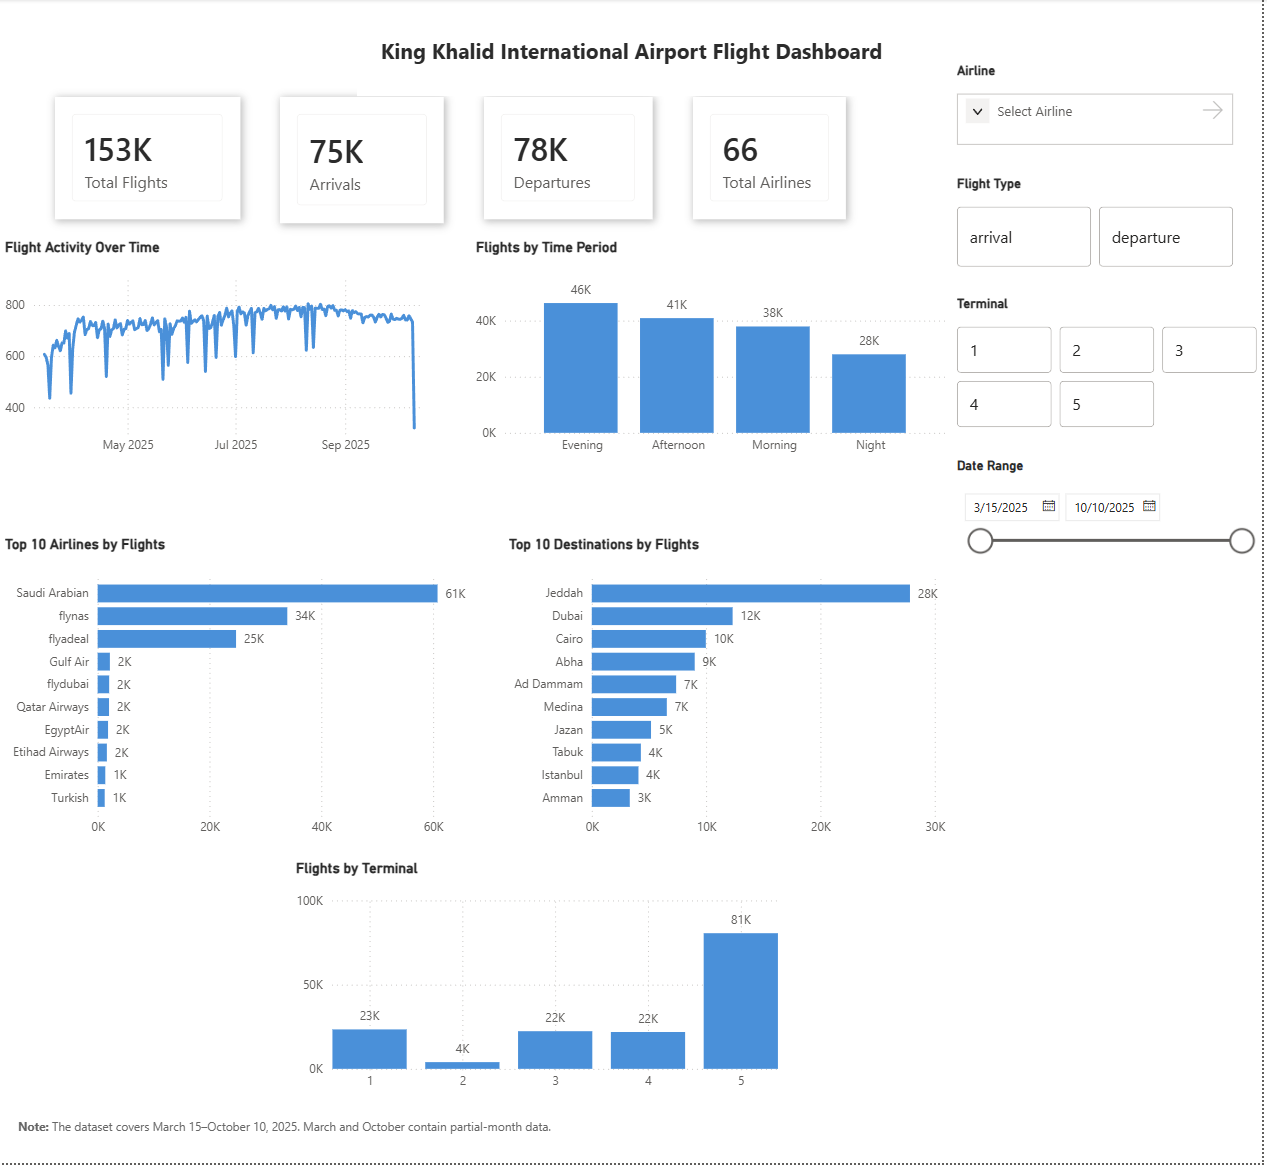

The dashboard page shown, as its layout file describes it:
{"tool":"powerbi","page":{"name":"Page 1","canvas":[1280,1180],"ordinal":0},"visuals":[{"type":"cardVisual","fields":{"Data":["saudi_aviation_clean.Total Flights"]},"box":[55.7,99,187.9,123.7],"z":0},{"type":"cardVisual","fields":{"Data":["saudi_aviation_clean.Arrivals"]},"box":[284.1,99,166.2,127.6],"z":1000},{"type":"cardVisual","fields":{"Data":["saudi_aviation_clean.Departures"]},"box":[490.9,99,170.9,123.7],"z":2000},{"type":"cardVisual","fields":{"Data":["saudi_aviation_clean.Total Airlines"]},"box":[702.3,99,155.4,123.7],"z":3000},{"type":"lineChart","title":"Flight Activity Over Time","fields":{"Category":["saudi_aviation_clean.date.Variation.Date Hierarchy.Year","saudi_aviation_clean.date.Variation.Date Hierarchy.Quarter","saudi_aviation_clean.date.Variation.Date Hierarchy.Month","saudi_aviation_clean.date.Variation.Date Hierarchy.Day"],"Y":["saudi_aviation_clean.Total Flights"]},"box":[0,243.2,450,226.5],"z":4000},{"type":"barChart","title":"Top 10 Airlines by Flights","fields":{"Category":["saudi_aviation_clean.airline.name"],"Y":["saudi_aviation_clean.Total Flights"]},"box":[0,544.2,510.8,313.2],"z":5000},{"type":"barChart","title":"Top 10 Destinations by Flights","fields":{"Category":["saudi_aviation_clean.destination_airport_name"],"Y":["saudi_aviation_clean.Total Flights"]},"box":[510.8,544.2,454.5,313.2],"z":6000},{"type":"columnChart","title":"Flights by Terminal","fields":{"Category":["saudi_aviation_clean.movement.terminal"],"Y":["saudi_aviation_clean.Total Flights"]},"box":[294.9,872.6,498.6,241.7],"z":7000},{"type":"columnChart","title":"Flights by Time Period","fields":{"Category":["saudi_aviation_clean.time_period"],"Y":["saudi_aviation_clean.Total Flights"]},"box":[477.3,243.2,488,226.5],"z":8000},{"type":"textSlicer","title":"Airline","fields":{"Values":["saudi_aviation_clean.airline.name"]},"box":[965.3,65.4,290.4,88.2],"z":9000},{"type":"advancedSlicerVisual","title":"Flight Type","fields":{"Values":["saudi_aviation_clean.flight_type"]},"box":[965.3,179.4,290.4,97.3],"z":10000},{"type":"advancedSlicerVisual","title":"Terminal","fields":{"Values":["saudi_aviation_clean.movement.terminal"]},"box":[965.3,301.5,314.7,138.3],"z":11000},{"type":"slicer","title":"Date Range","fields":{"Values":["saudi_aviation_clean.date"]},"box":[965.3,465.2,314.7,124.7],"z":12000},{"type":"textbox","box":[361.8,32.5,556.4,66.5],"z":13000},{"type":"textbox","box":[13.7,1128,562.5,35],"z":14000}]}

Visuals, with their boxes in screenshot pixels (x1, y1, x2, y2), scaled from the page's 1280x1180 canvas onto the 1267x1166 screenshot:
cardVisual - saudi_aviation_clean.Total Flights: bbox=[55, 98, 241, 220]
cardVisual - saudi_aviation_clean.Arrivals: bbox=[281, 98, 446, 224]
cardVisual - saudi_aviation_clean.Departures: bbox=[486, 98, 655, 220]
cardVisual - saudi_aviation_clean.Total Airlines: bbox=[695, 98, 849, 220]
"Flight Activity Over Time" lineChart: bbox=[0, 240, 445, 464]
"Top 10 Airlines by Flights" barChart: bbox=[0, 538, 506, 847]
"Top 10 Destinations by Flights" barChart: bbox=[506, 538, 955, 847]
"Flights by Terminal" columnChart: bbox=[292, 862, 785, 1101]
"Flights by Time Period" columnChart: bbox=[472, 240, 955, 464]
"Airline" textSlicer: bbox=[955, 65, 1243, 152]
"Flight Type" advancedSlicerVisual: bbox=[955, 177, 1243, 273]
"Terminal" advancedSlicerVisual: bbox=[955, 298, 1266, 435]
"Date Range" slicer: bbox=[955, 460, 1266, 583]
textbox: bbox=[358, 32, 909, 98]
textbox: bbox=[14, 1115, 570, 1149]
